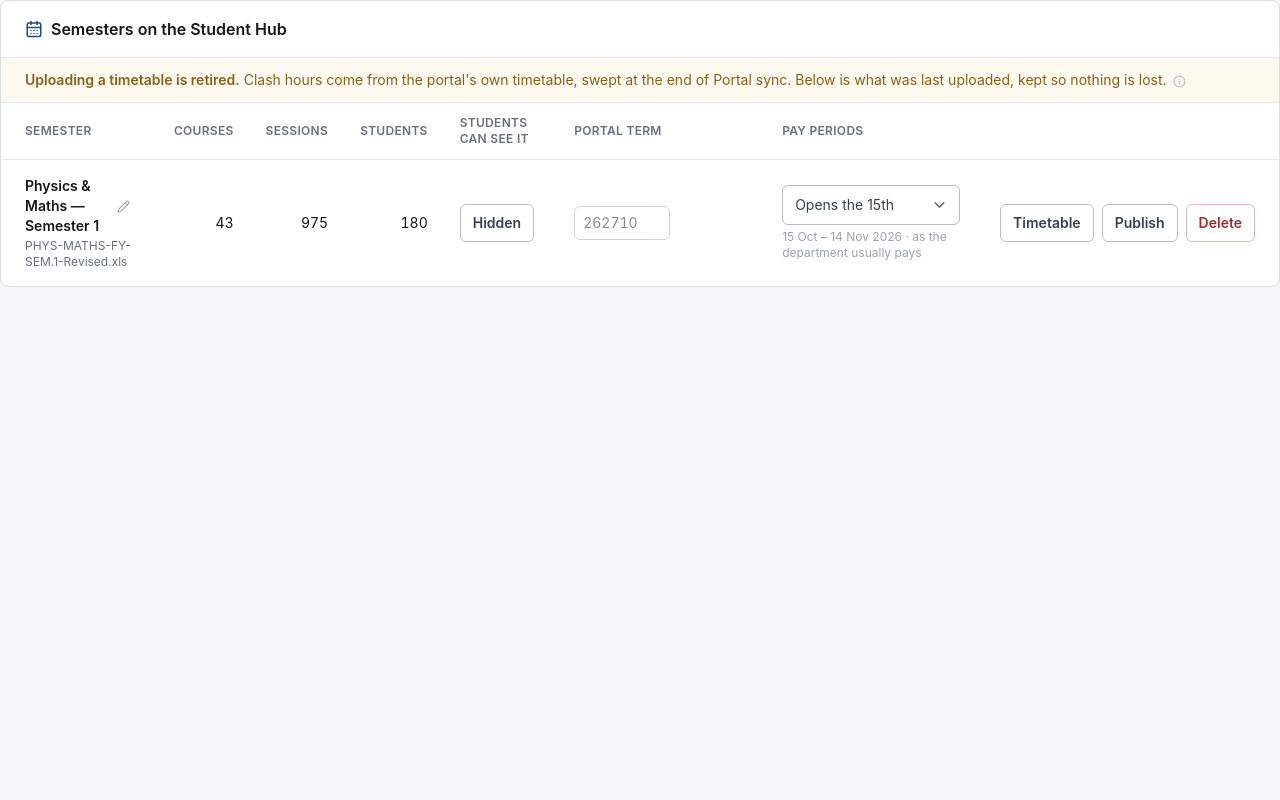
Test: the semesters the platform holds › leaves the semester alone when the confirmation is dismissed
The image size is (1280, 800).
Click the button "Delete" at point(1220, 223), box [1186, 204, 1255, 242]
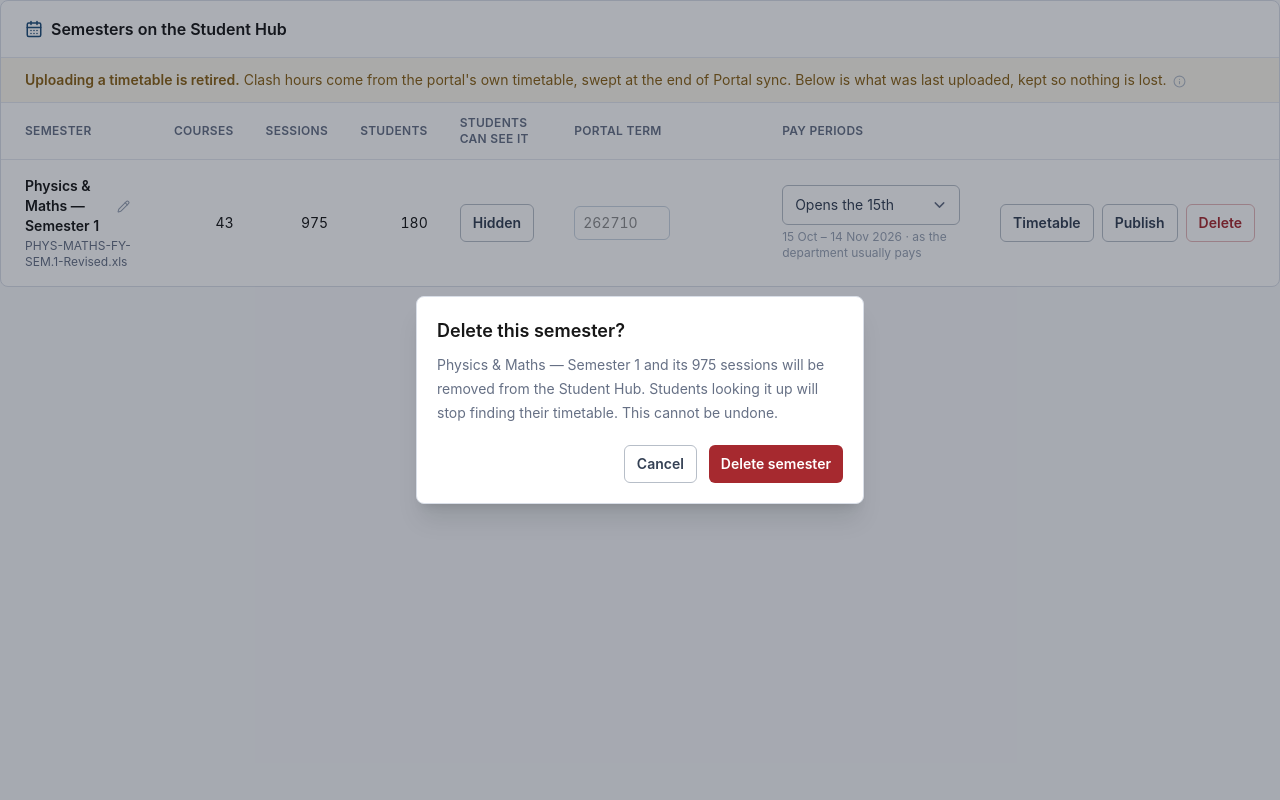
Click the button "Cancel" at point(660, 464), box [624, 445, 697, 483]
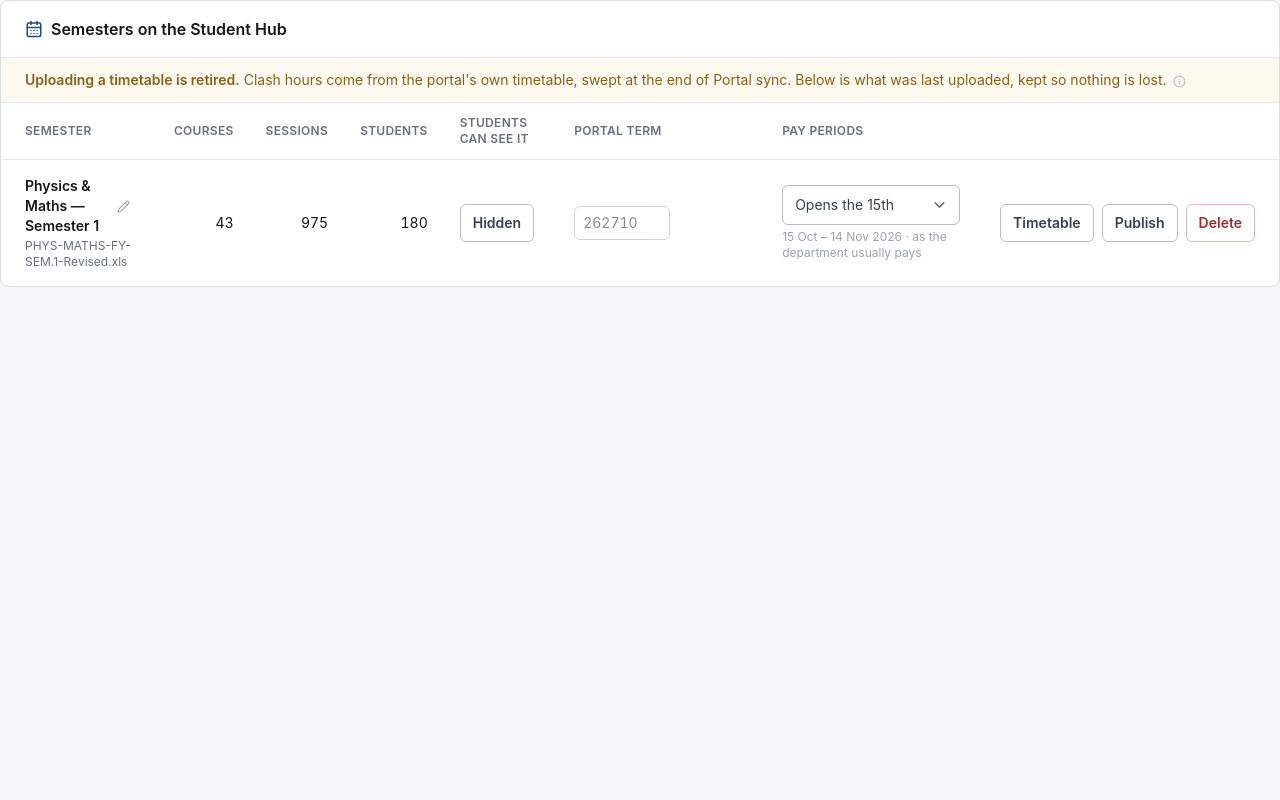
Result: the dialog is gone
